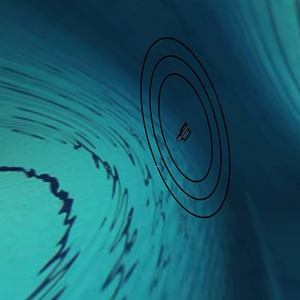circle: (128, 30, 239, 227)
submarine: (172, 116, 197, 152)
